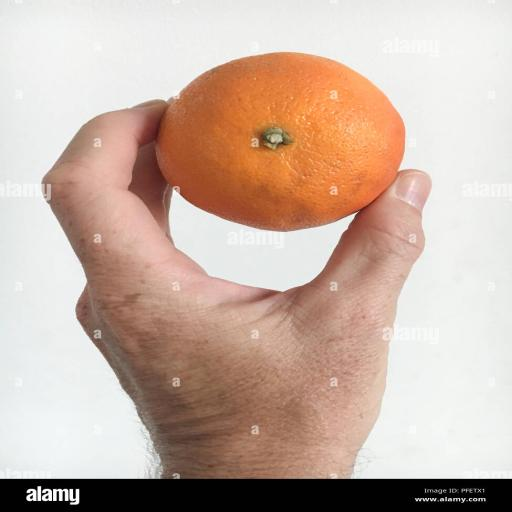orange: (158, 53, 404, 230)
